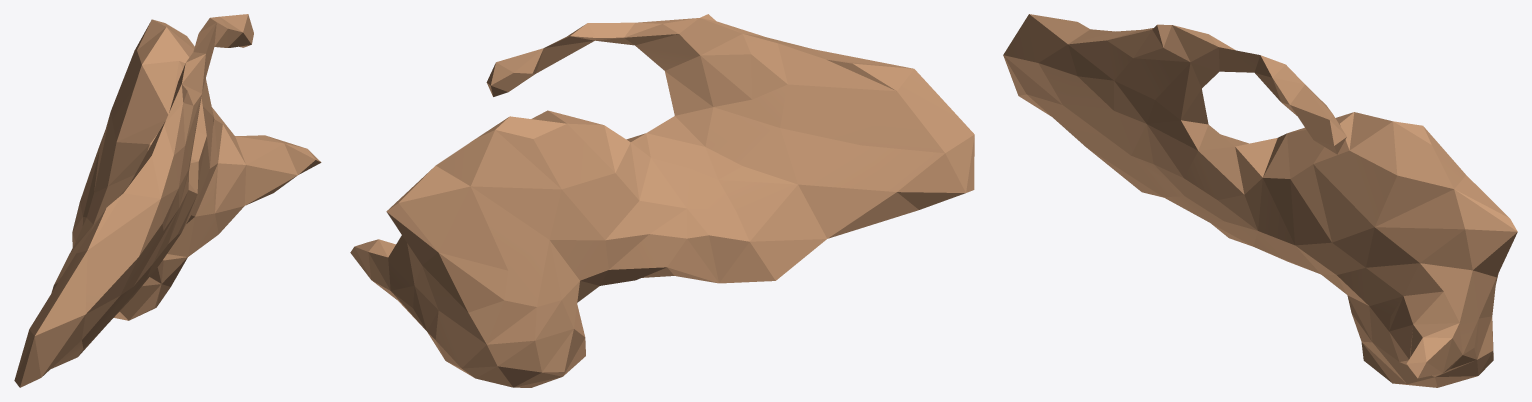
3 renders of one model, left to right at view 1: azimuth 30°, elevation 25°; view 2: azimuth 150°, elevation 25°; view 3: azimuth 270°, elevation 25°, orthographic. The views are drawn at different scales.
Size of the model in its own units: 10.46 by 6.96 by 9.63.
